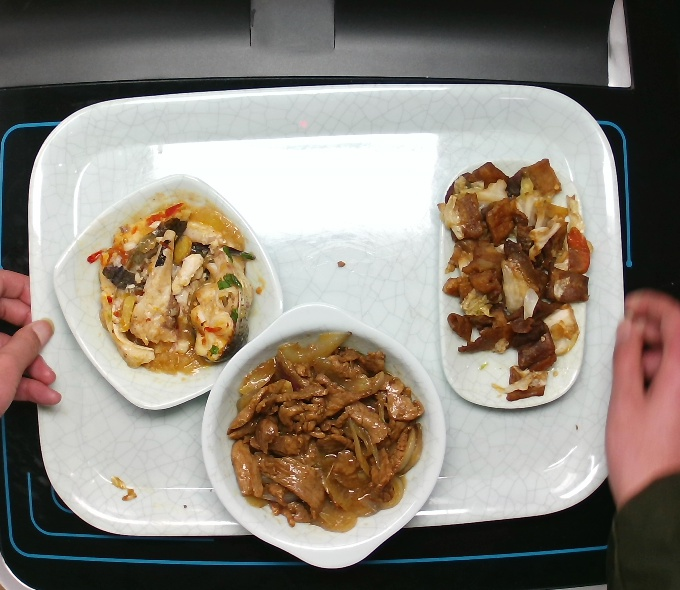wcq-DuoJiaoYuKuai: (82, 193, 281, 380)
wcq-PaoCaiRouPian: (434, 148, 607, 410)
wcq-YangCongRouPian: (226, 321, 433, 540)
